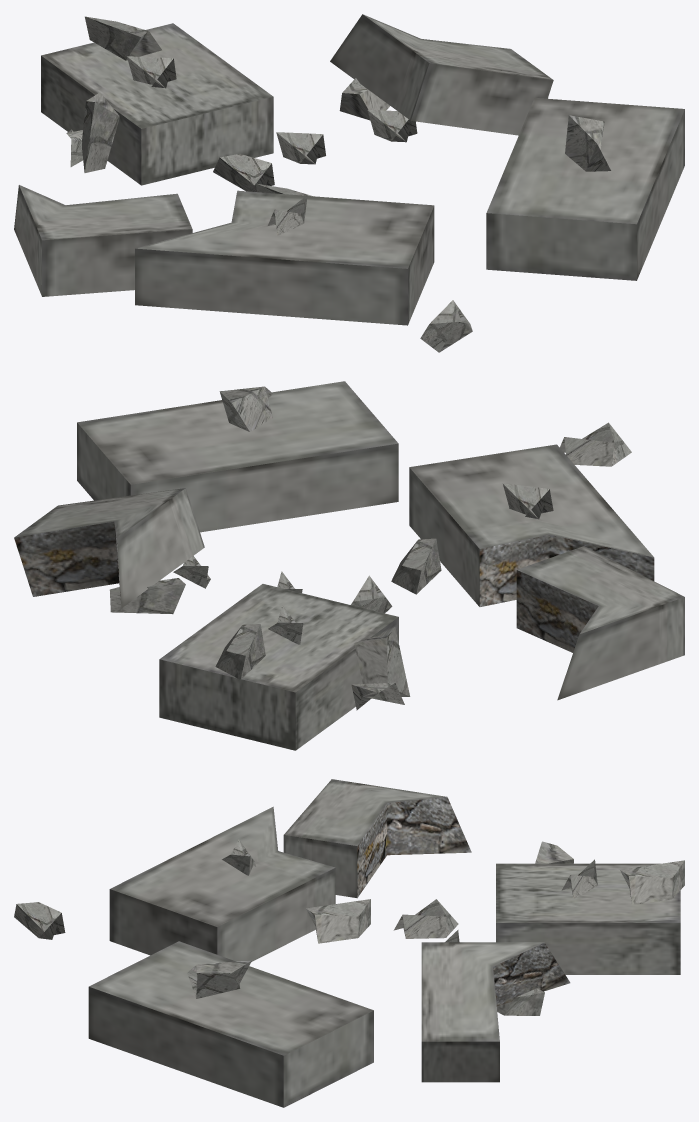
The model's file is PavementRubble01.fbx.
3 views of the same model, one above another, from view 1: azimuth 30°, elevation 25°; view 2: azimuth 150°, elevation 25°; view 3: azimuth 270°, elevation 25° (orthographic). The views are drawn at different scales.
Visible parts, largest first — view 1: PavementRubble01; view 2: PavementRubble01; view 3: PavementRubble01.
Part boxes in pixels (box(x1,y1,x2,y2)): PavementRubble01: box(14, 14, 684, 352); PavementRubble01: box(14, 381, 684, 750); PavementRubble01: box(14, 779, 684, 1107).
Size of the model in its own units: 33.32 by 5.38 by 34.14.
